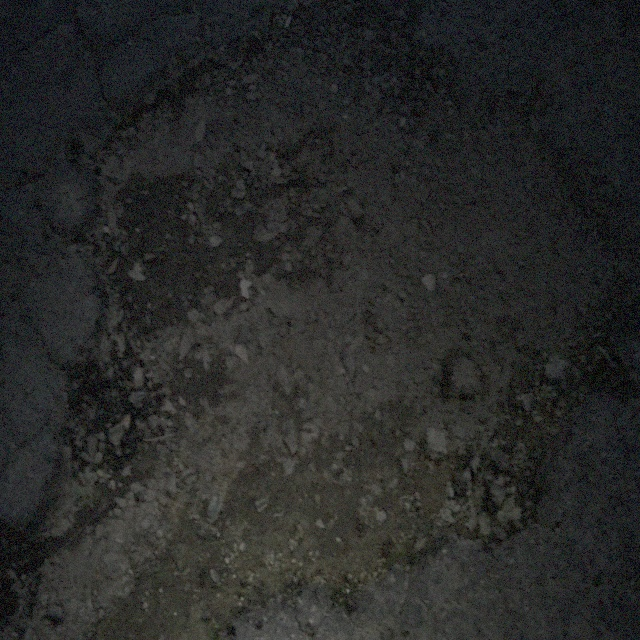pothole: (55, 16, 619, 619)
